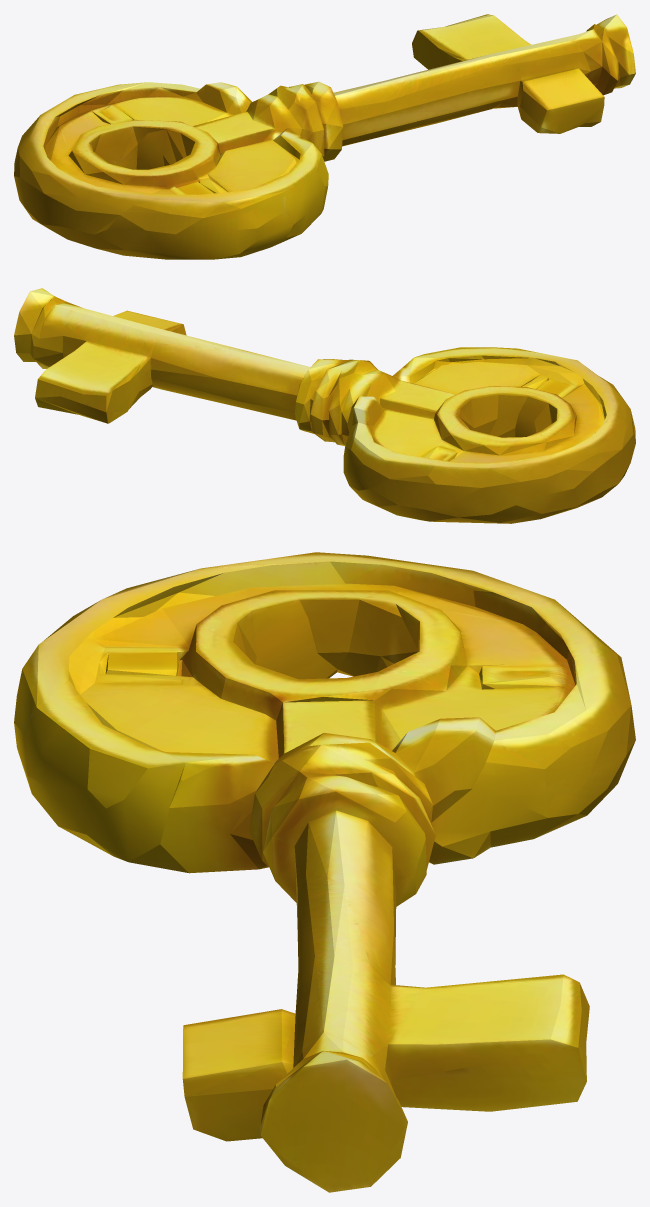
File: key.glb
The picture shows the model from 3 angles, top to bottom: view 1: azimuth 30°, elevation 25°; view 2: azimuth 150°, elevation 25°; view 3: azimuth 270°, elevation 25°; orthographic projection. The views are drawn at different scales.
Parts seen in each view (by area): view 1: model; view 2: model; view 3: model.
Part boxes in pixels (box(x1,y1,x2,y2)): model: box(14, 14, 635, 259); model: box(14, 288, 635, 523); model: box(14, 552, 635, 1192).
Size of the model in its own units: 1.9 by 0.2549 by 0.9147.
1 material, 1 textured.
